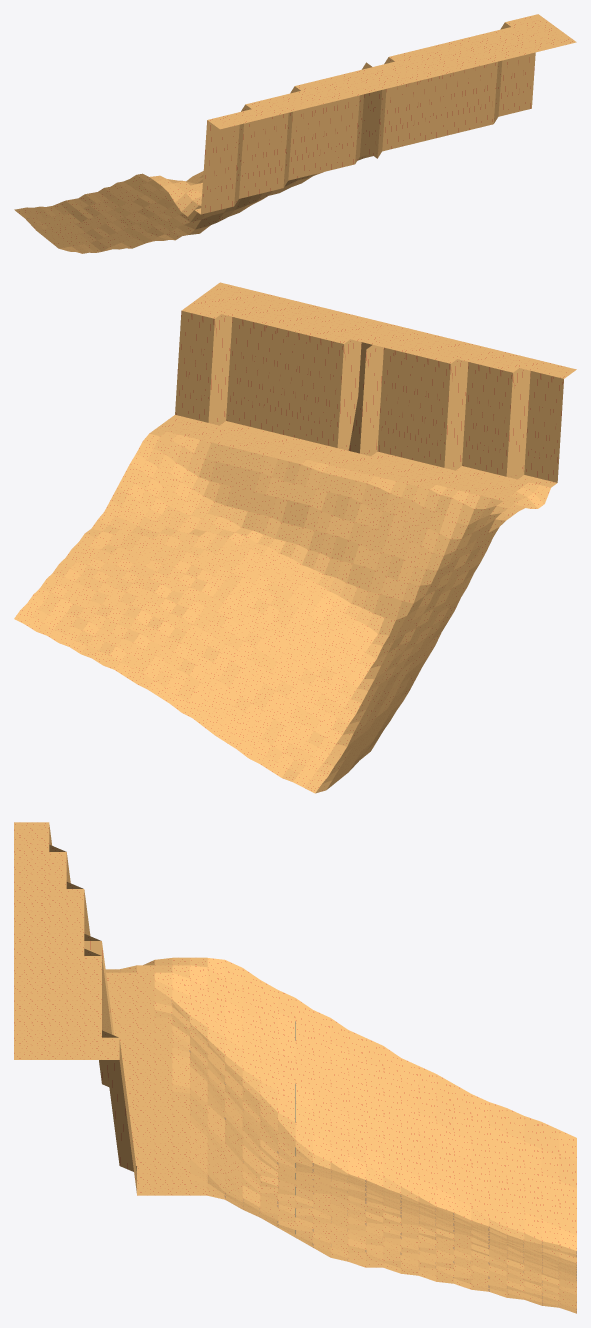
The model's file is map_chunked_018.gltf.
3 renders of one model, top to bottom at view 1: azimuth 30°, elevation 25°; view 2: azimuth 150°, elevation 25°; view 3: azimuth 270°, elevation 25°, orthographic. The views are drawn at different scales.
Parts seen in each view (by area): view 1: map_chunked.018; view 2: map_chunked.018; view 3: map_chunked.018.
Part boxes in pixels (x1,y1,x2,y2): map_chunked.018: (14,14,576,253); map_chunked.018: (14,282,576,793); map_chunked.018: (14,822,576,1313).
Size of the model in its own units: 32 by 24.57 by 32.
Materials: 1 (1 with a texture image).
